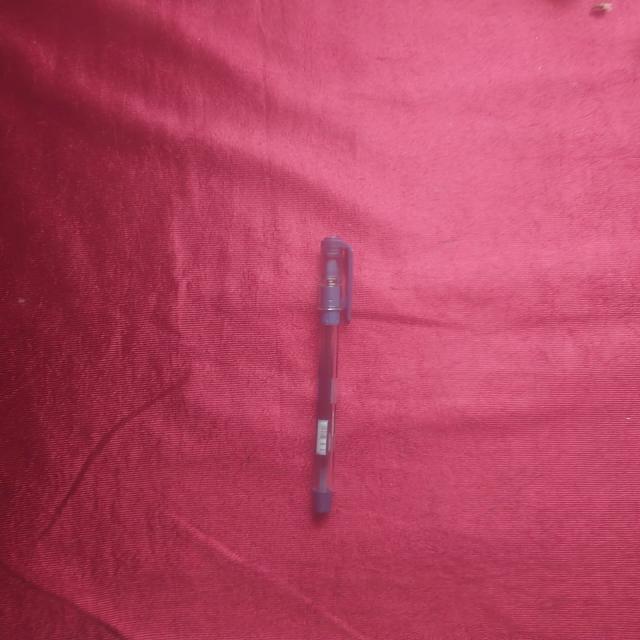blessing_card: (312, 230, 358, 528)
